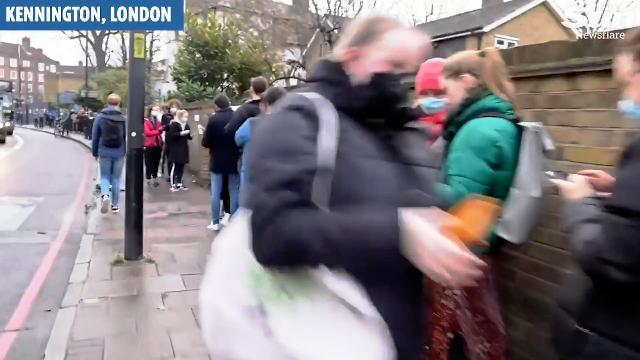berdiri: (200, 93, 252, 235), (153, 98, 194, 192)
